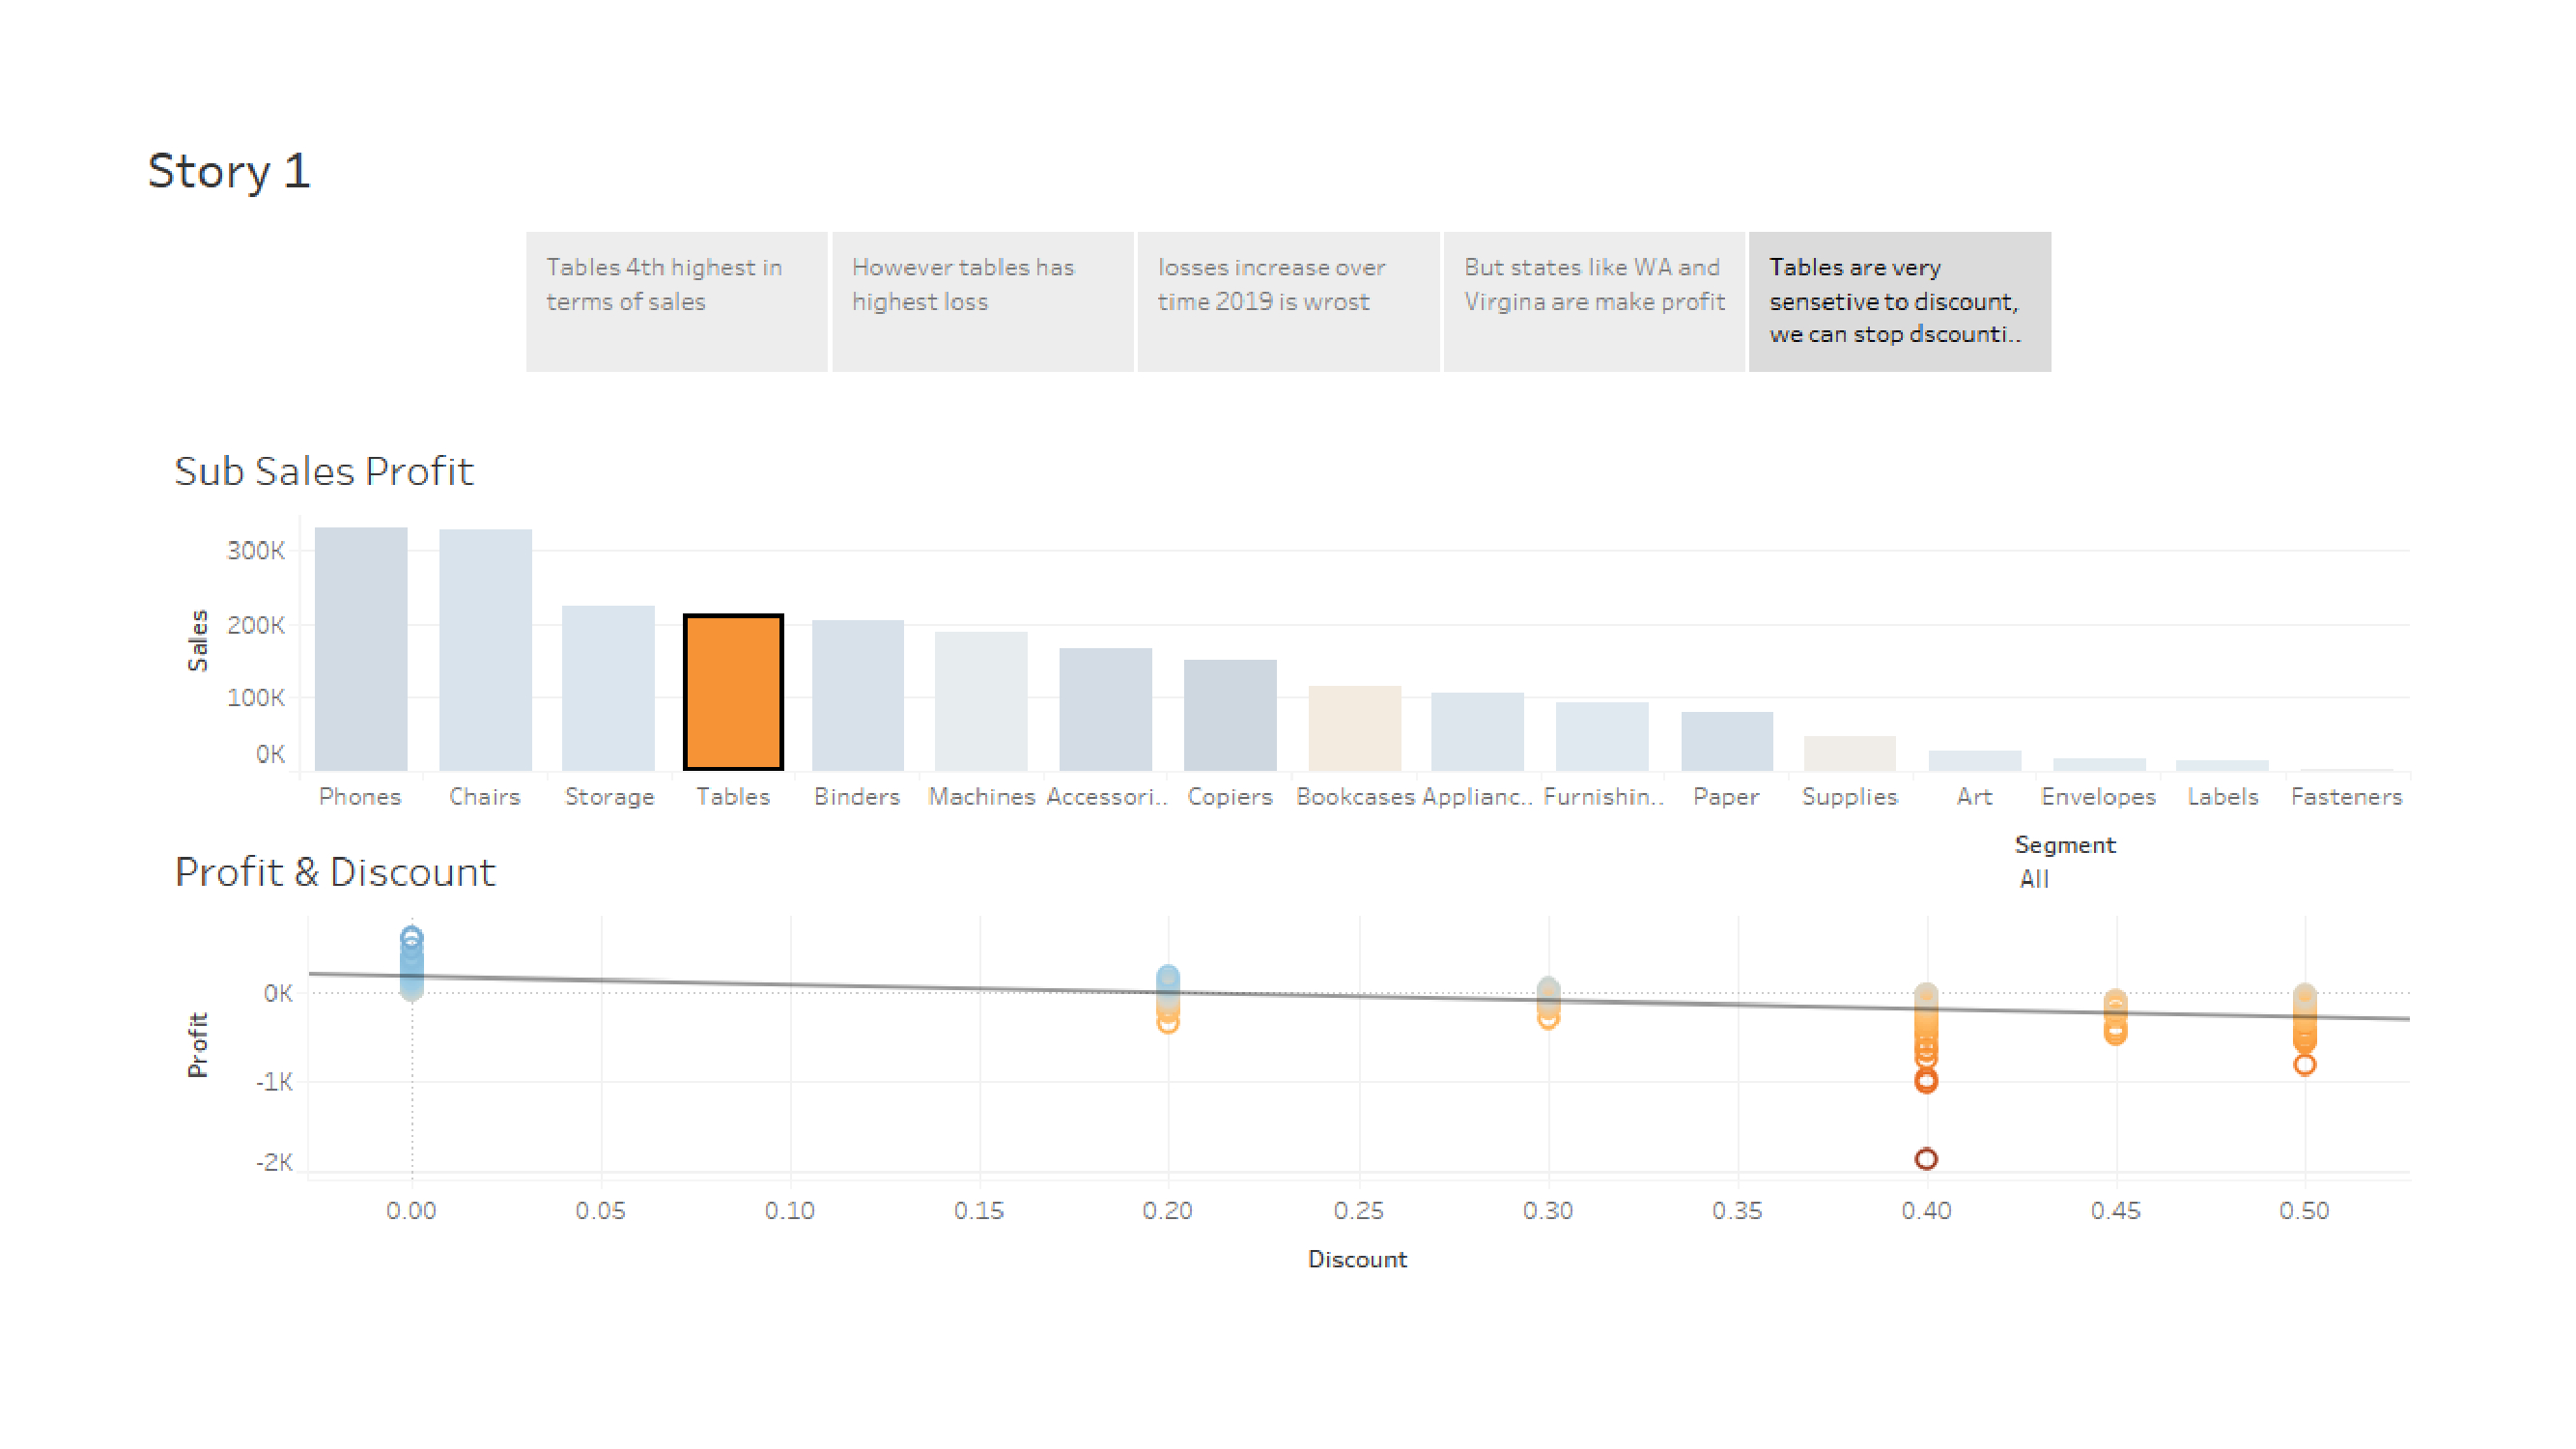

The page's visual inventory and layout, read from the dashboard file:
{"tool":"tableau","page":{"name":"Dash Profit","canvas":[1000,1000],"units":"permille","ordinal":0},"visuals":[{"type":"worksheet","title":"Sub Sales Profit","mark":"Automatic","rows":["Sales"],"cols":["Sub-Category"],"box":[6.9,13.3,986.1,443.5]},{"type":"worksheet","title":"Profit & Discount","mark":"Automatic","rows":["Profit"],"cols":["Discount"],"box":[6.9,456.8,986.1,529.9]},{"type":"filter","title":"Profit & Discount","param":"[federated.1tfnya512v4sic154r6q116n23ai].[none:Segment:nk]","box":[817.3,461.8,168,136.2]}]}

Visuals, with their boxes on the dashboard's canvas, which has no fixed pixel size, in thousandths of its width and height (x1, y1, x2, y2). These are canvas units, not pixel positions in the 2576x1449 screenshot, which may show the page scaled, cropped or inside an application window:
"Sub Sales Profit" worksheet: (x1=7, y1=13, x2=993, y2=457)
"Profit & Discount" worksheet: (x1=7, y1=457, x2=993, y2=987)
"Profit & Discount" filter: (x1=817, y1=462, x2=985, y2=598)
